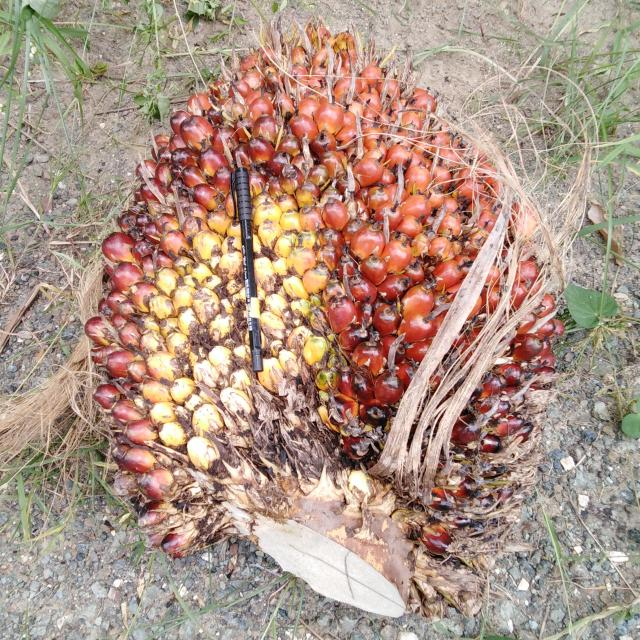FFB: (84, 24, 562, 604)
